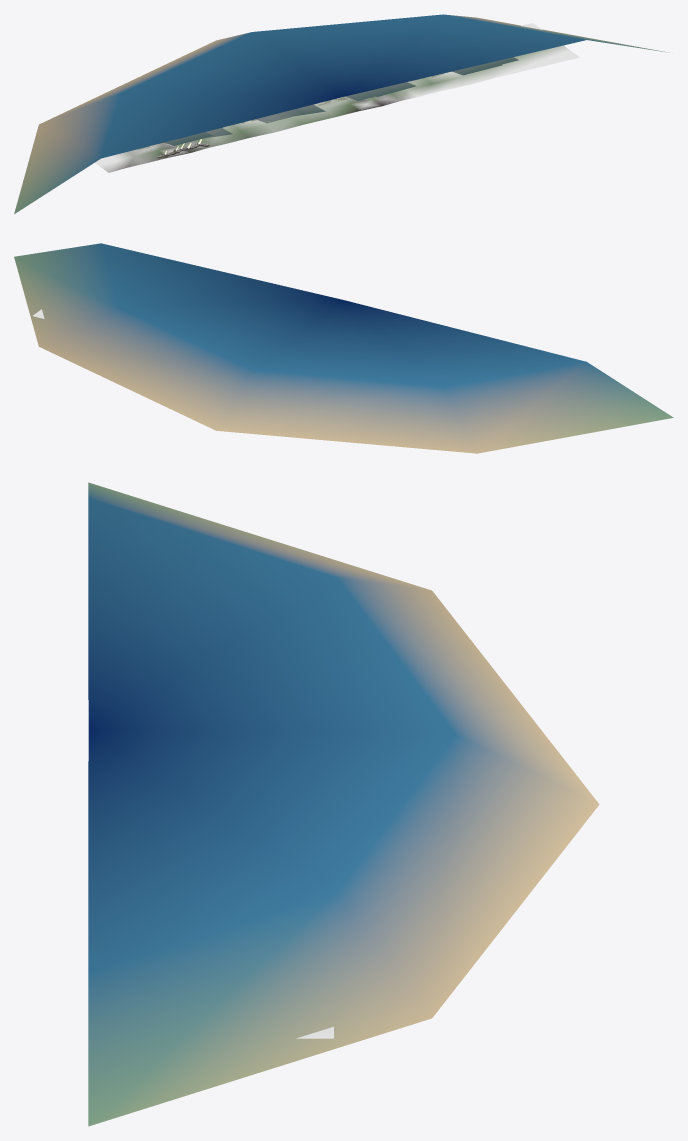
File: Forest_15.fbx
The picture shows the model from 3 angles, top to bottom: view 1: azimuth 30°, elevation 25°; view 2: azimuth 150°, elevation 25°; view 3: azimuth 270°, elevation 25°; orthographic projection. The views are drawn at different scales.
Parts seen in each view (by area): view 1: Light_01_ncl1_1, Bg_01_A, Cloud_01; view 2: Light_01_ncl1_1; view 3: Light_01_ncl1_1.
Part boxes in pixels (x1=…): Light_01_ncl1_1: x1=14, y1=14, x2=668, y2=214; Bg_01_A: x1=95, y1=23, x2=579, y2=172; Cloud_01: x1=164, y1=57, x2=518, y2=145; Light_01_ncl1_1: x1=14, y1=243, x2=673, y2=453; Light_01_ncl1_1: x1=88, y1=482, x2=599, y2=1126.
Size of the model in its own units: 8566 by 462 by 2873.
